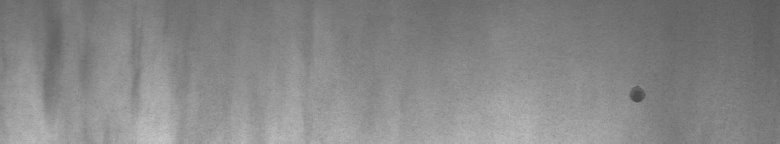fi: (624, 80, 648, 109)
